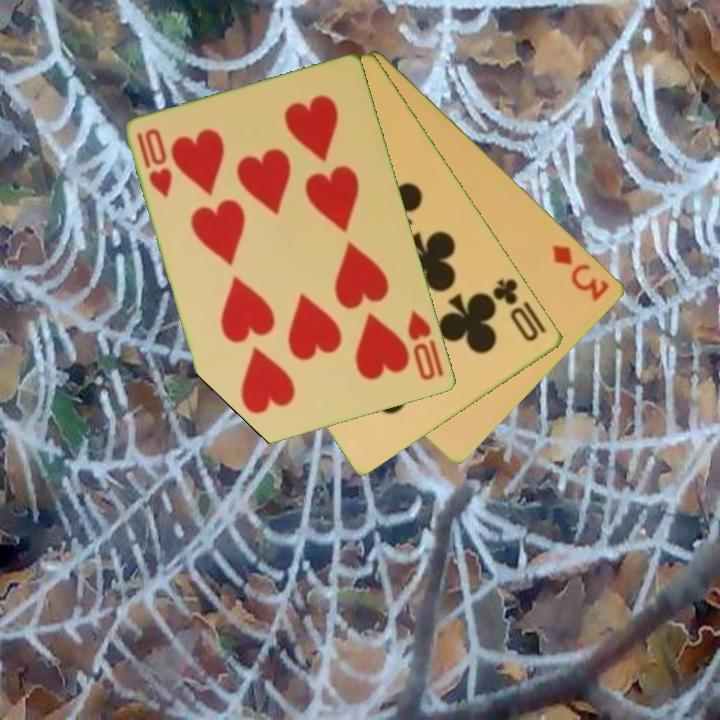10c: (489, 274, 542, 345)
10h: (133, 125, 176, 201), (405, 306, 439, 384)
3d: (549, 241, 613, 304)
